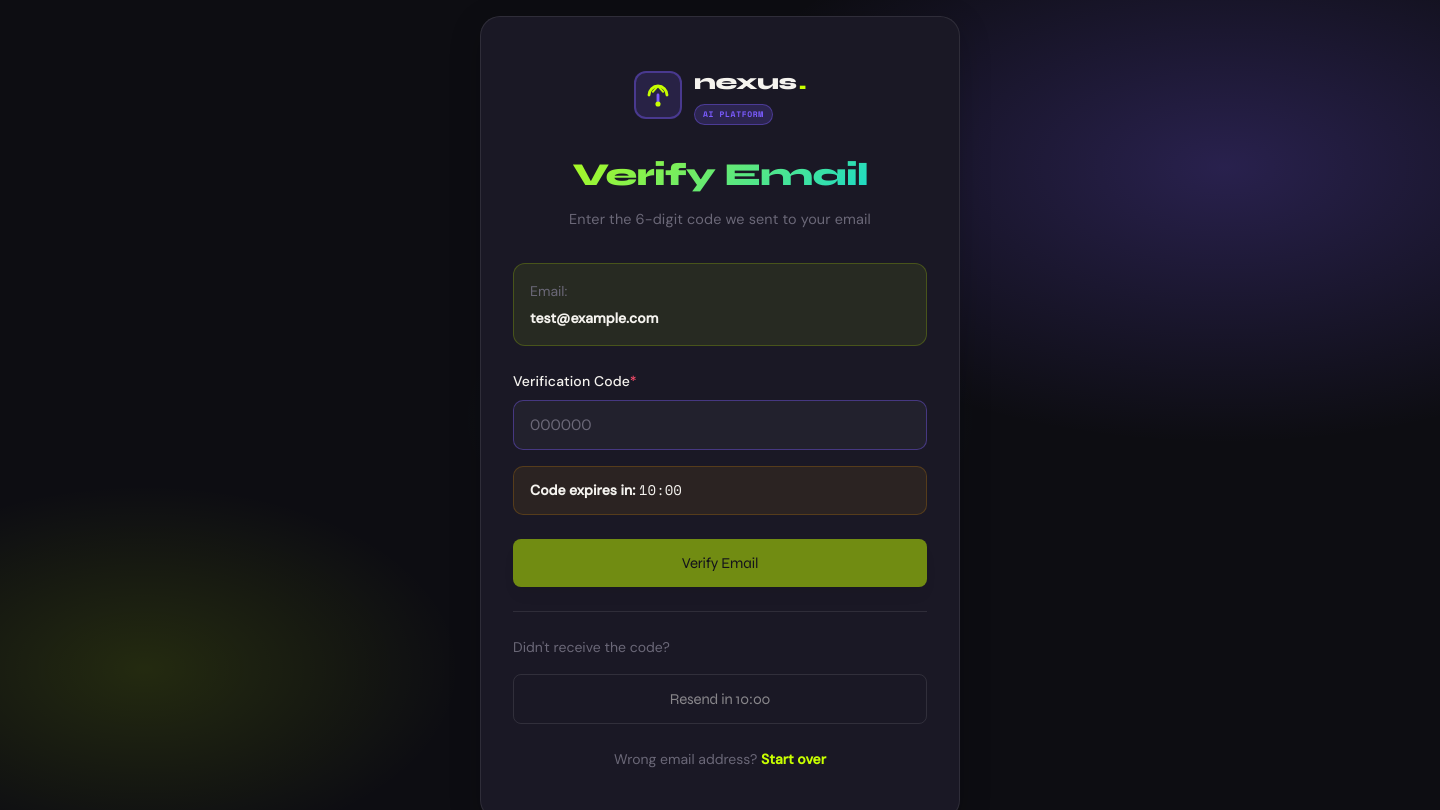
Test: VerifyEmailPage › displays error message for invalid code
This screenshot has width=1440, height=810.
In the field labelled "Verification Code*": coordinates (720, 425) [513,400,927,450], type "999999"
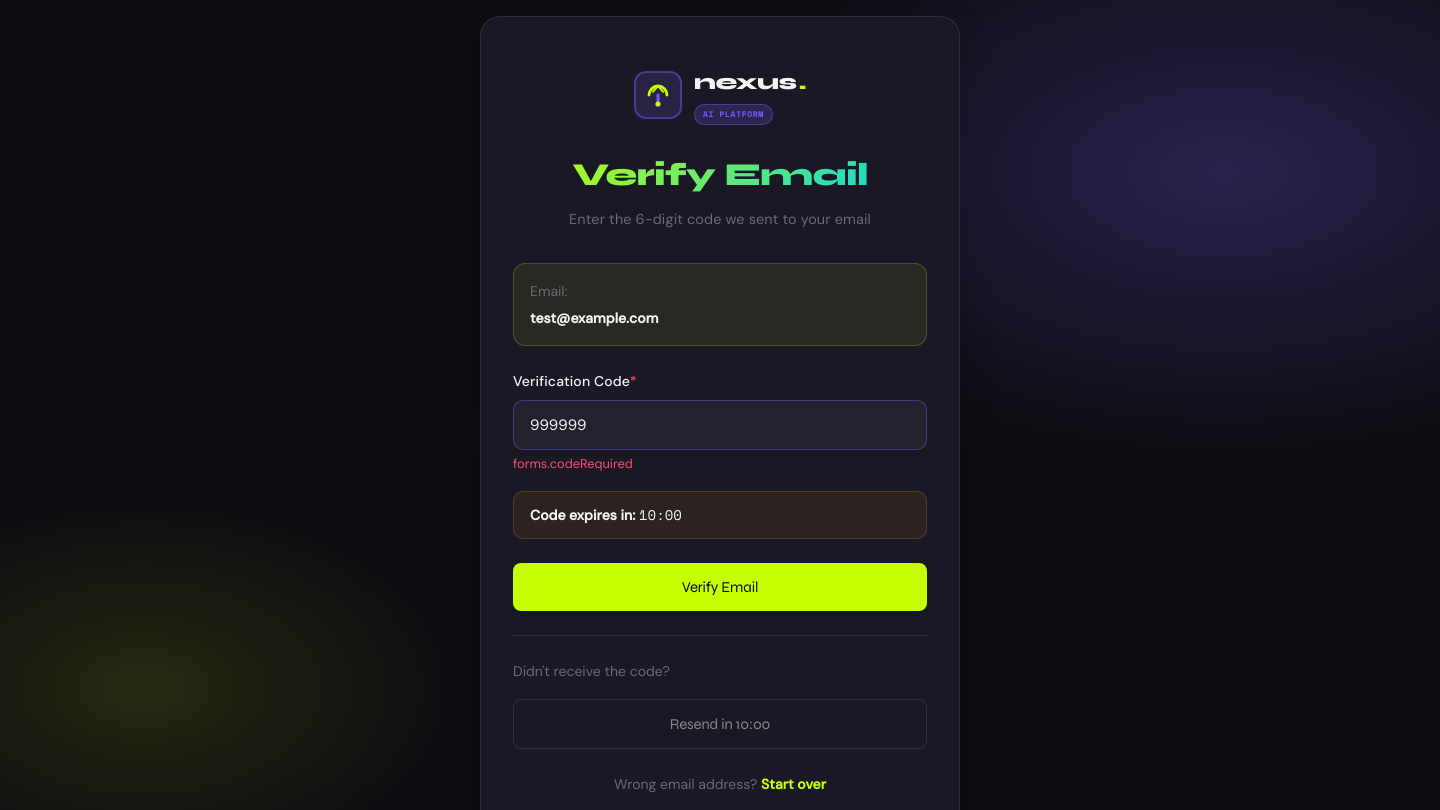
Click the button "Verify Email": coordinates (720, 587) [513,563,927,611]
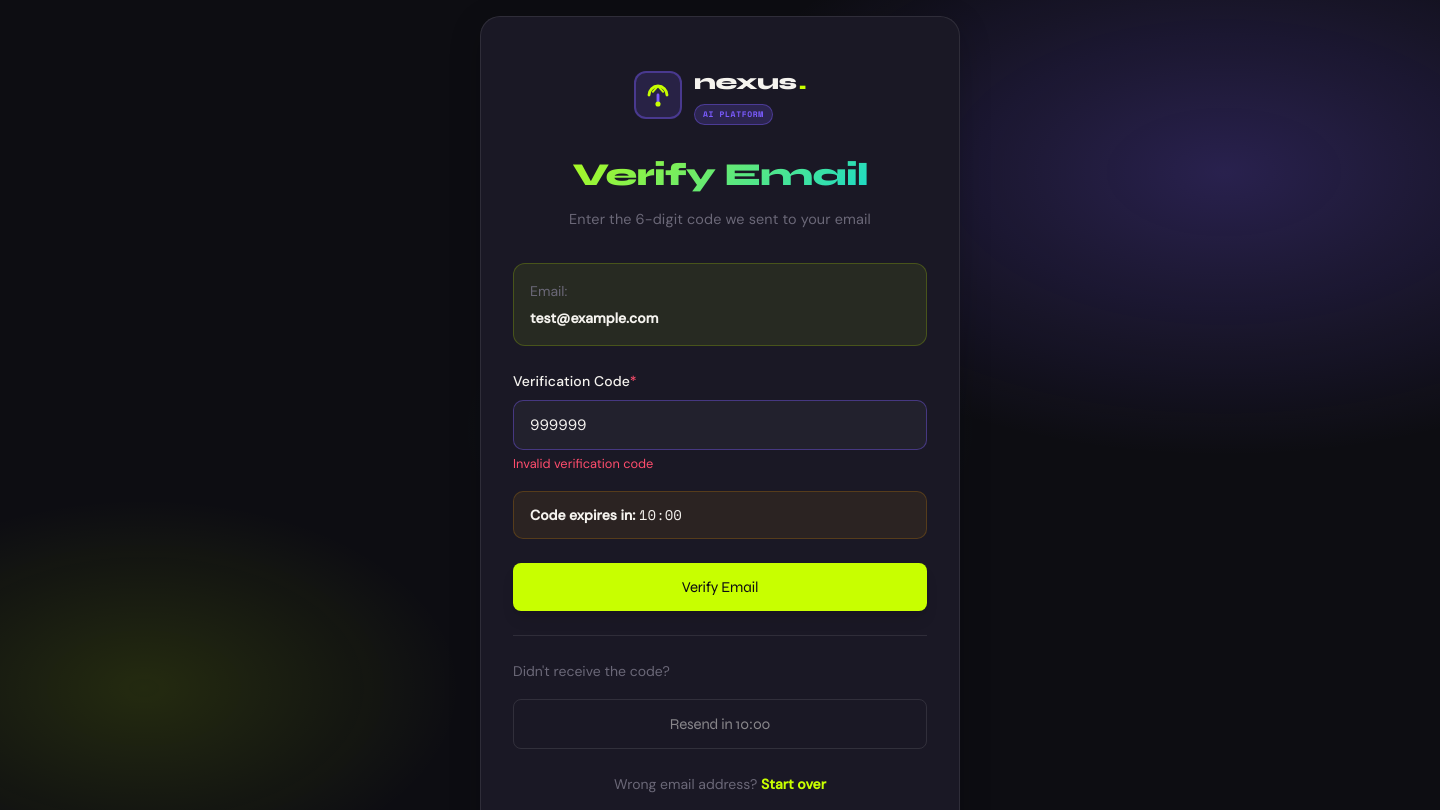
Check: the text "Invalid verification code" is shown, box [513,455,653,472]
